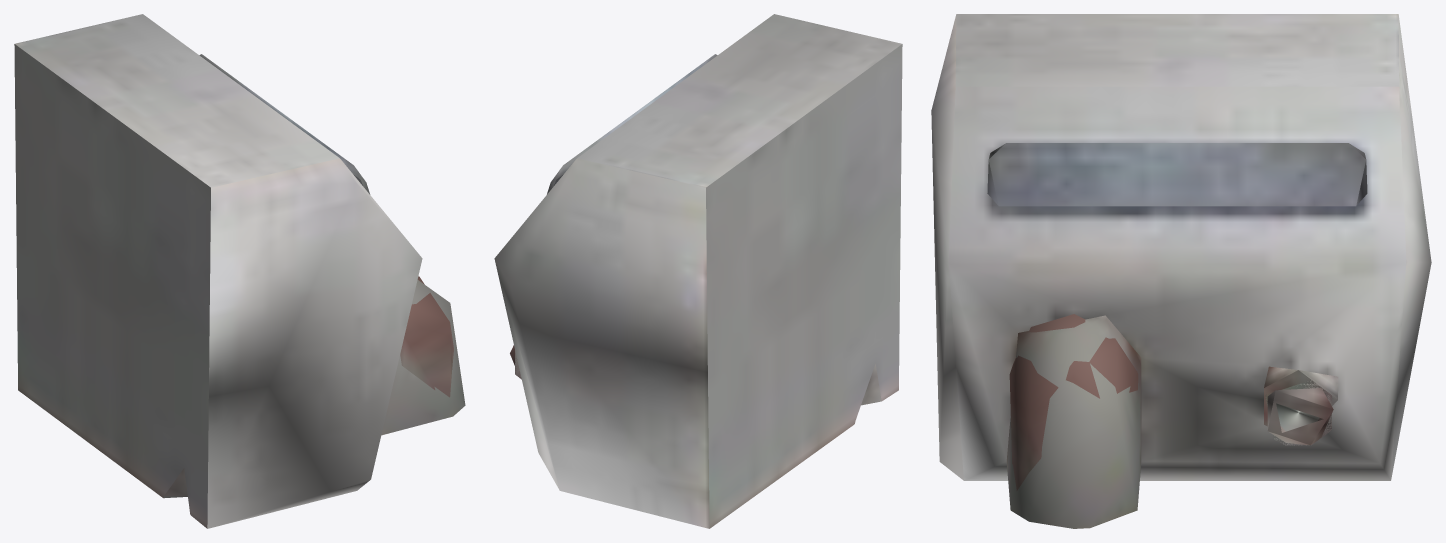
The model's file is hand-dryer.lod1.glb.
The picture shows the model from 3 angles, left to right: view 1: azimuth 30°, elevation 25°; view 2: azimuth 150°, elevation 25°; view 3: azimuth 270°, elevation 25°; orthographic projection. The views are drawn at different scales.
Visible parts, largest first — view 1: Object_14; view 2: Object_14; view 3: Object_14.
Part boxes in pixels (x1,y1,x2,y2): Object_14: (14,14,465,528); Object_14: (494,14,902,528); Object_14: (931,14,1431,528).
Bounding box in the file's own units: 0.2654 × 0.2922 × 0.3408.
1 material, 1 textured.
